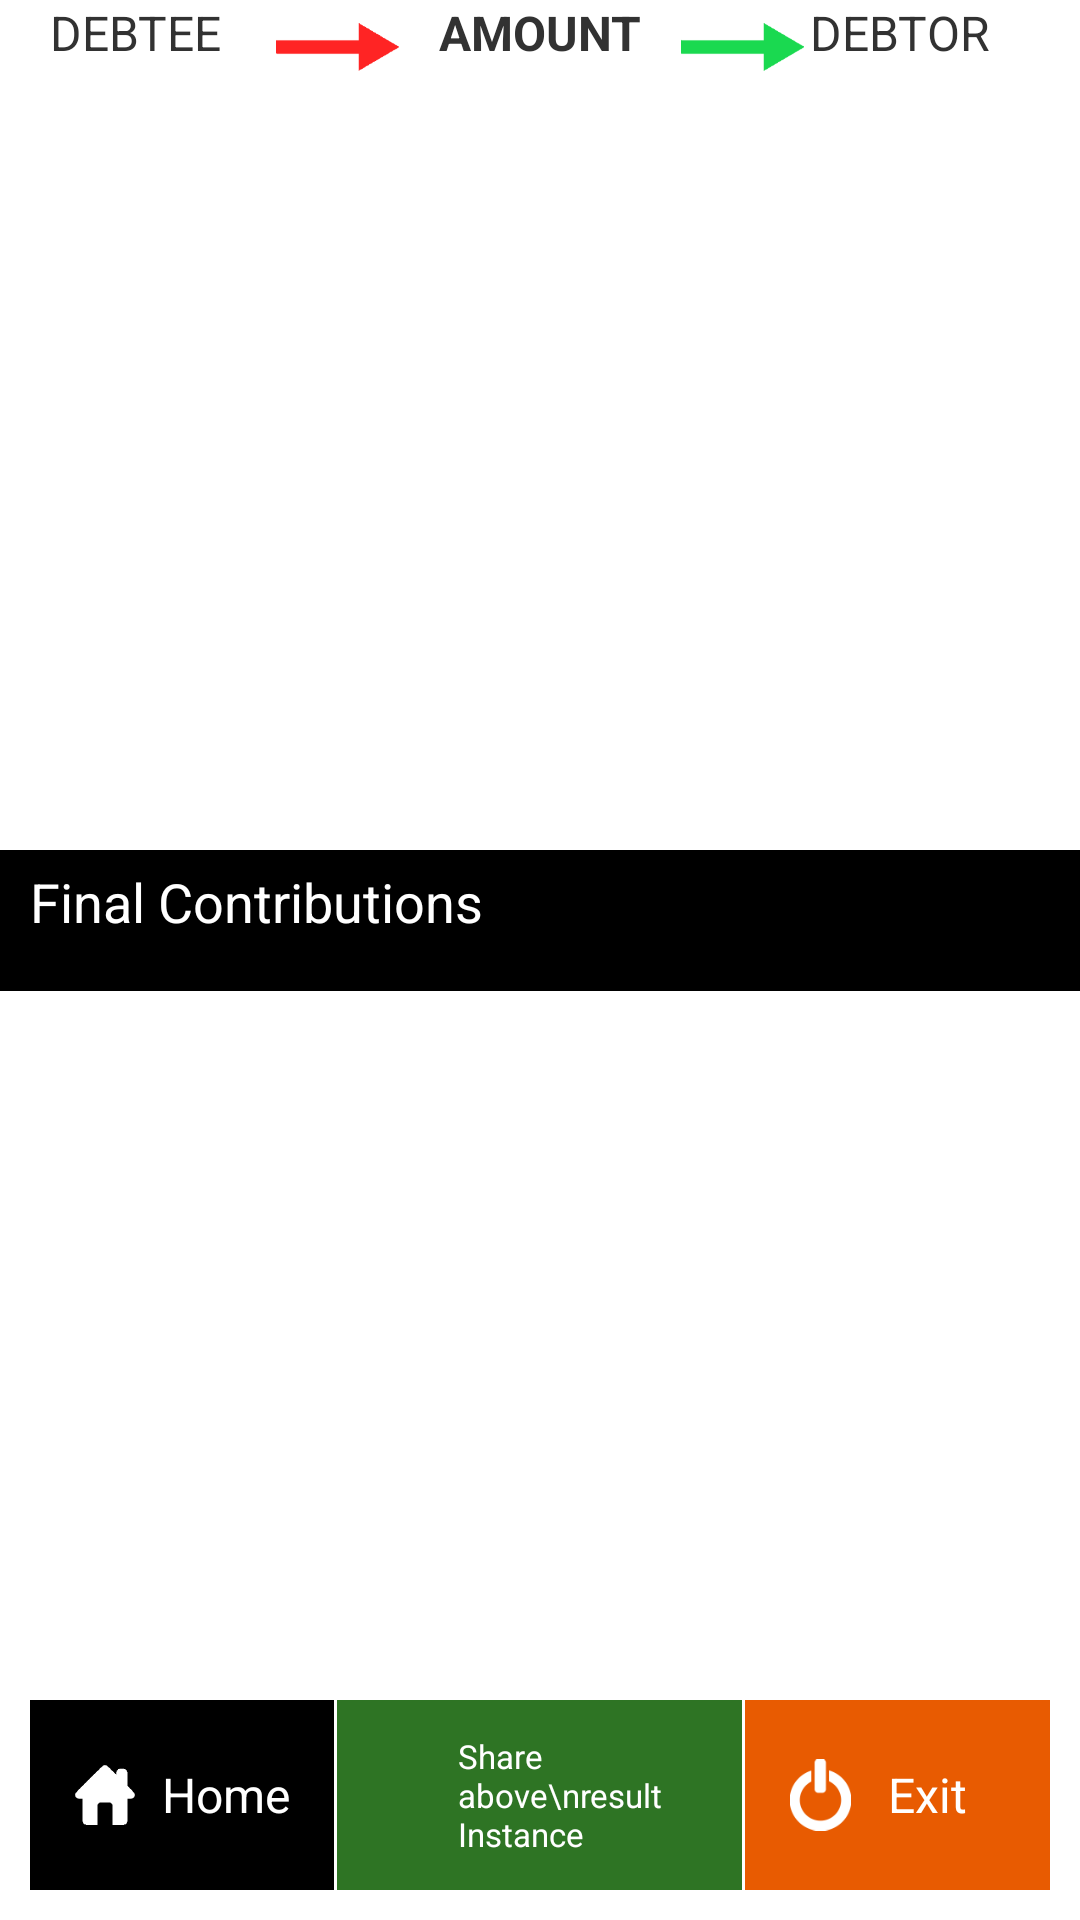

Named icons in this screenshot (1080 x 1920) and their centers, [x,y]:
shut: [820,1795]
